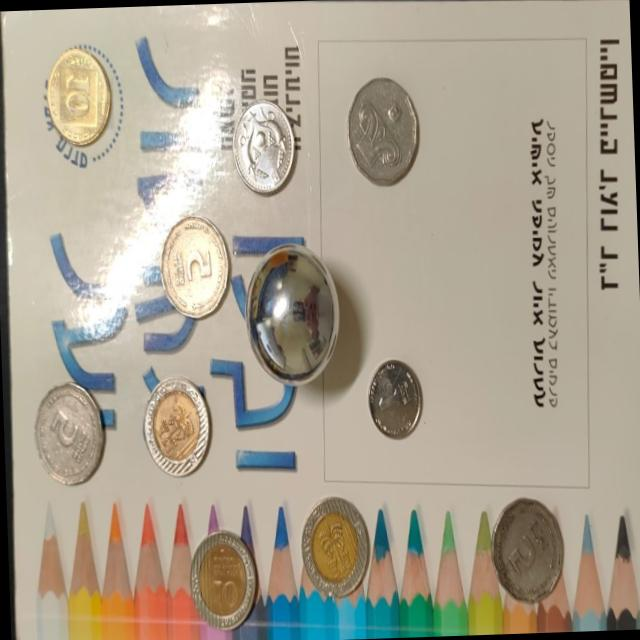1-shekel: (366, 358, 424, 442)
10-shekel: (296, 492, 380, 600), (136, 375, 214, 481), (185, 527, 260, 628)
2-shekel: (230, 101, 300, 198)
5-shekel: (342, 72, 427, 192), (487, 496, 568, 608), (31, 378, 112, 488), (156, 215, 233, 322)
